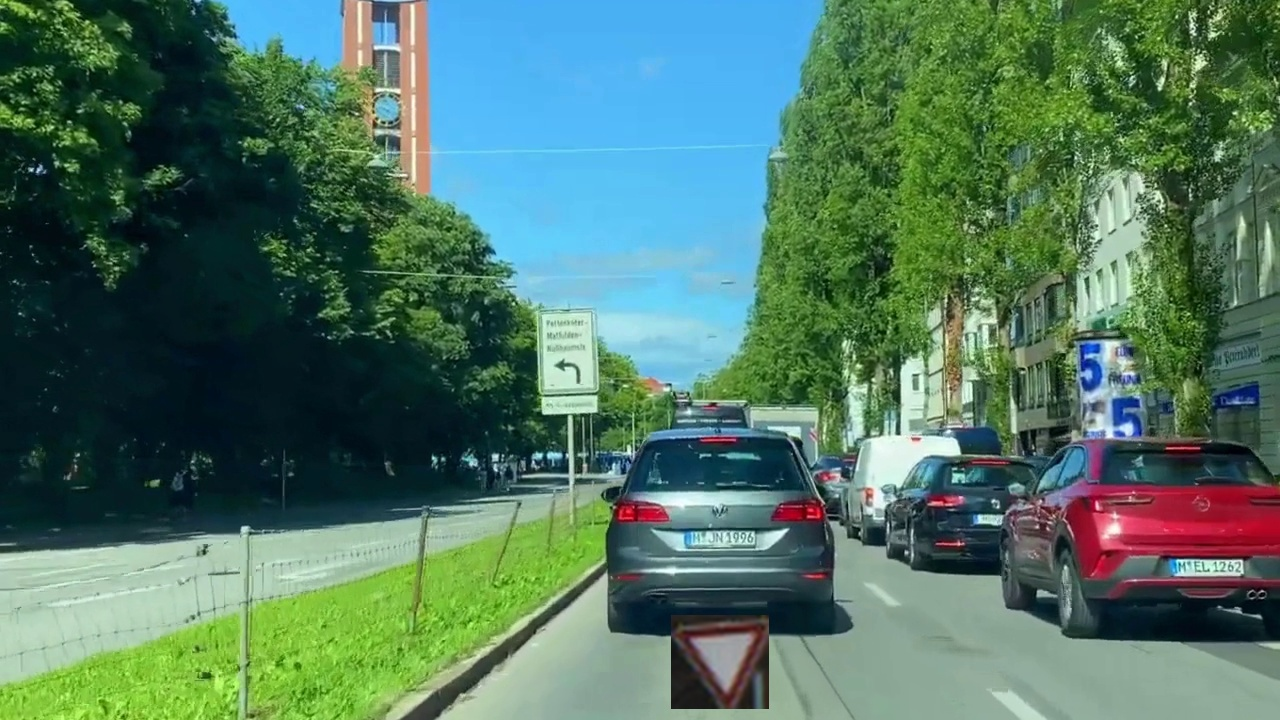Yield: (671, 615, 769, 709)
